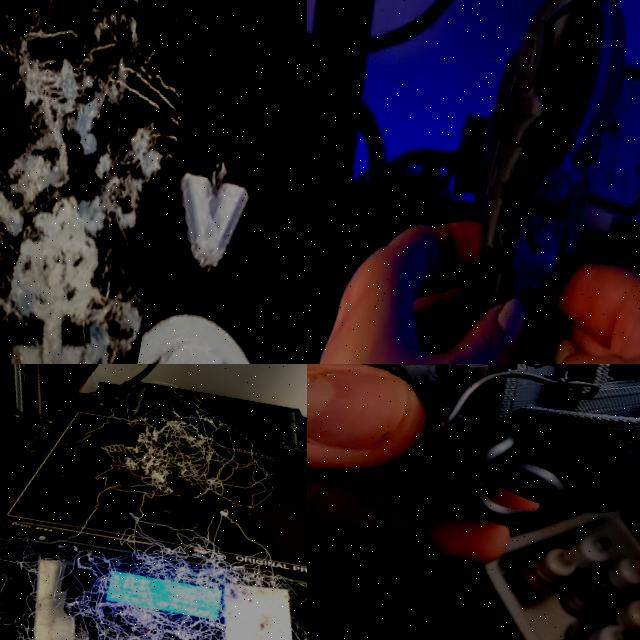spaghetti: (0, 0, 183, 364), (0, 530, 307, 640), (115, 388, 276, 506)
